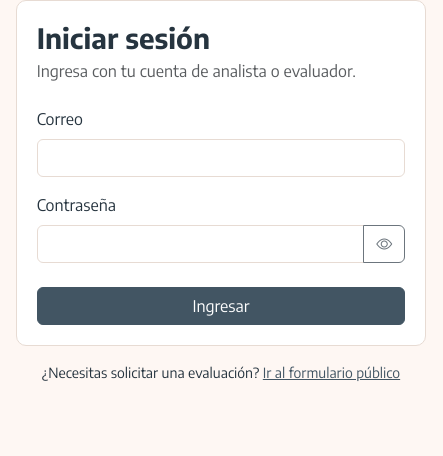
it: Login › muestra el mensaje del servidor cuando las credenciales son incorrectas
This screenshot has width=443, height=456.
Type "paula.herrera@demo.cl" into the field labelled "Correo" at (221, 158), box [37,139,405,177]
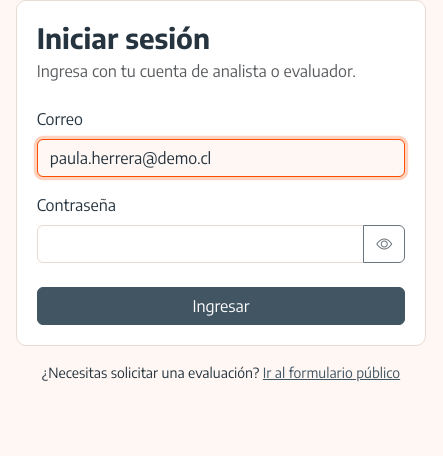
Type "mala" into the password field labelled "Contraseña" at (201, 244), box [37,225,364,263]
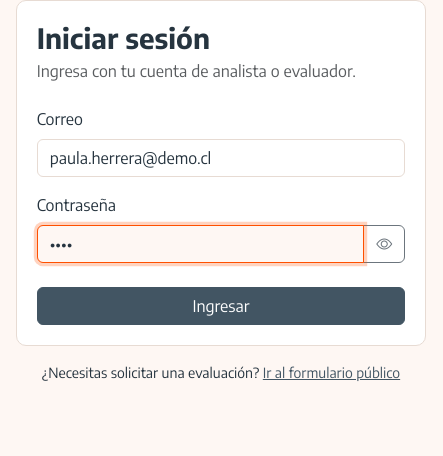
Click the button "Ingresar" at (221, 306), box [37,287,405,325]
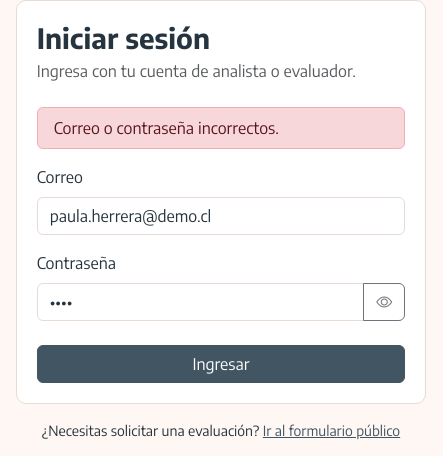
Expected: the message reads "Correo o contraseña incorrectos.", [54,118,279,138]
